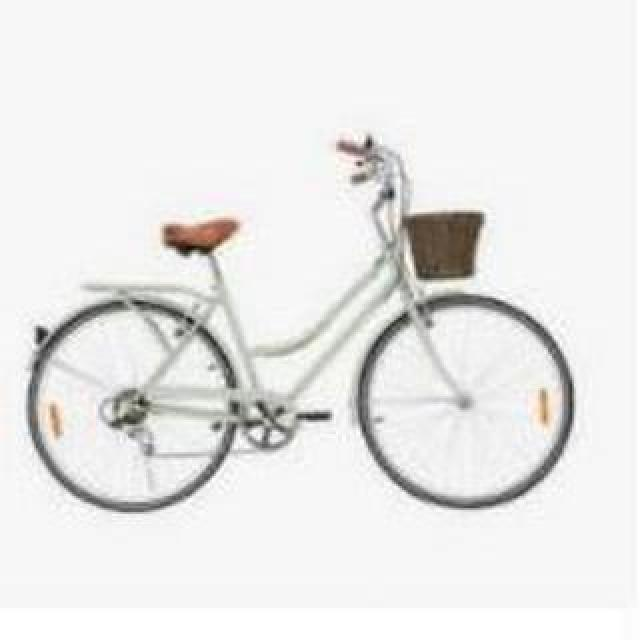Person: (19, 101, 591, 547)
